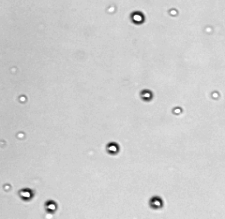Living Cell: (149, 195, 164, 208), (19, 188, 33, 201), (45, 200, 58, 213), (140, 88, 153, 101), (131, 11, 144, 24), (106, 142, 119, 153), (15, 131, 27, 141), (105, 4, 116, 14), (168, 7, 178, 17), (17, 94, 28, 103), (211, 89, 220, 100), (173, 106, 182, 115), (2, 183, 11, 192), (204, 25, 213, 34)
